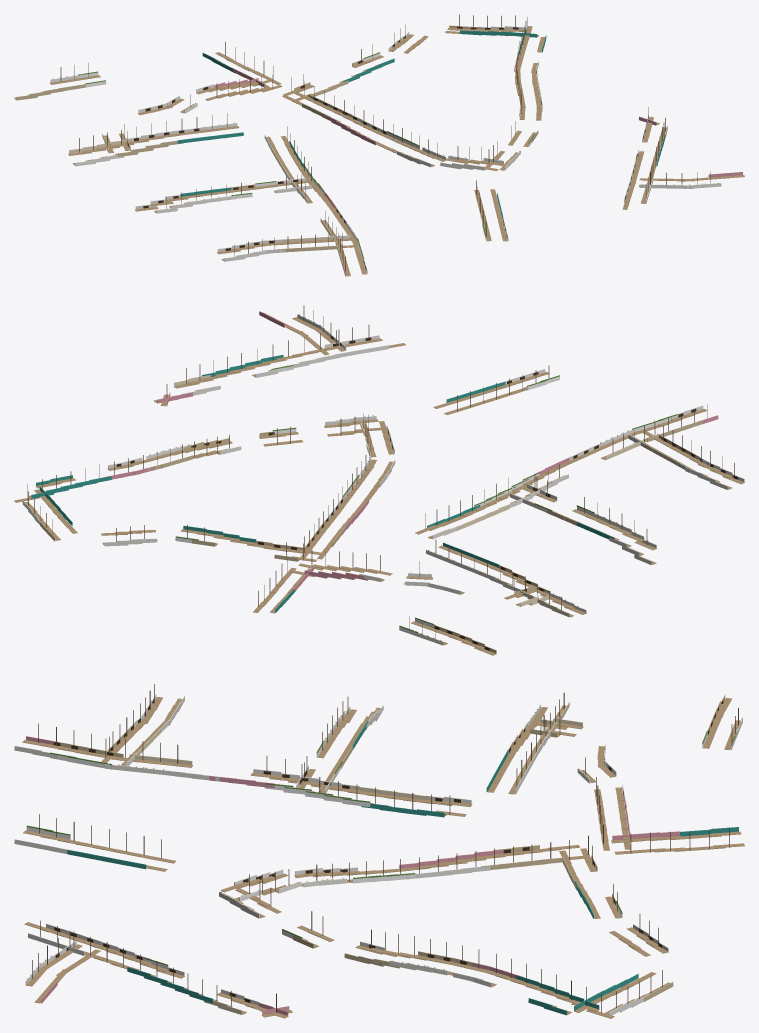
The model's file is noord_res_-28_-21.glb.
3 views of the same model, one above another, from view 1: azimuth 30°, elevation 25°; view 2: azimuth 150°, elevation 25°; view 3: azimuth 270°, elevation 25° (orthographic). The views are drawn at different scales.
Visible parts, largest first — view 1: noord_res_-28_-21_lod0; view 2: noord_res_-28_-21_lod0; view 3: noord_res_-28_-21_lod0.
Part boxes in pixels (x1,y1,x2,y2): noord_res_-28_-21_lod0: [14, 14, 744, 276]; noord_res_-28_-21_lod0: [14, 305, 744, 655]; noord_res_-28_-21_lod0: [14, 684, 744, 1018].
Size of what is drawn, in the model's own units: 285 by 18.31 by 280.
